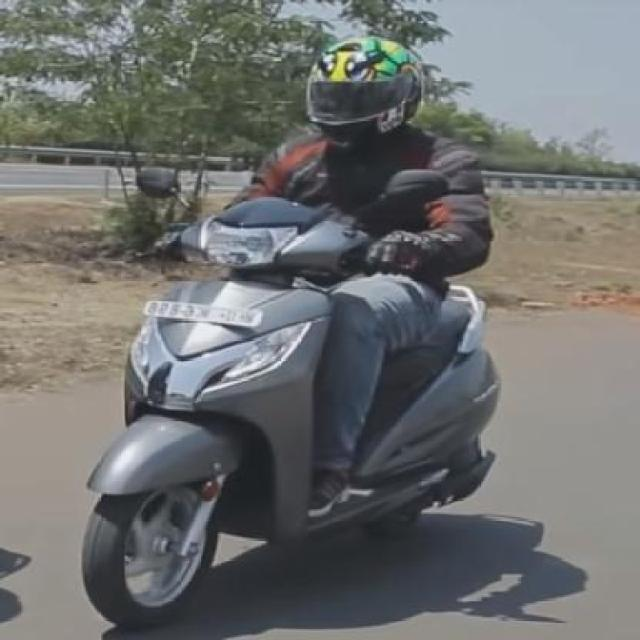helmet: (290, 32, 428, 145)
motorcycle: (65, 23, 519, 628)
